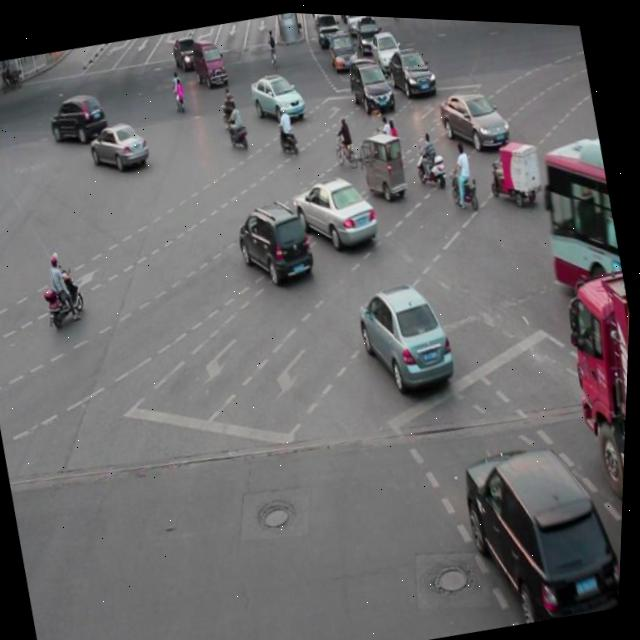bus: (550, 261, 633, 602)
car: (454, 419, 628, 629), (352, 270, 462, 397), (289, 163, 383, 254), (231, 190, 318, 288), (434, 75, 513, 156), (85, 113, 154, 176), (44, 87, 112, 148), (247, 64, 308, 126), (383, 37, 438, 99), (345, 49, 396, 113)
van: (528, 126, 632, 300)
